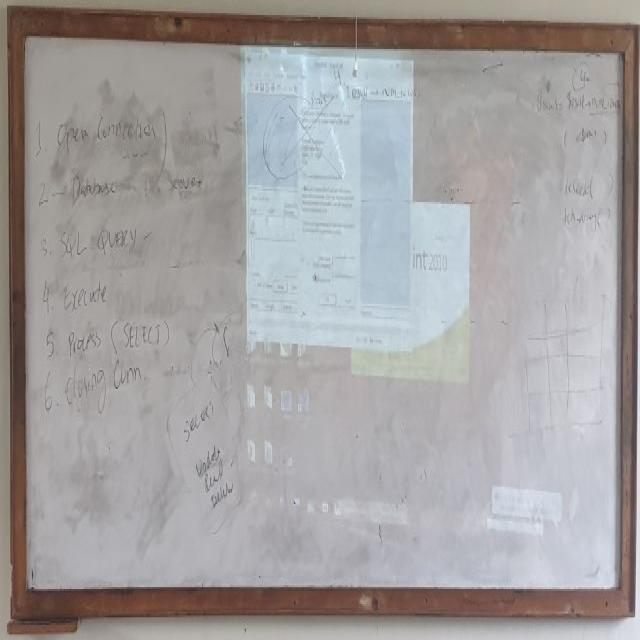Slide: (243, 19, 615, 566)
White-board: (18, 29, 633, 606)
